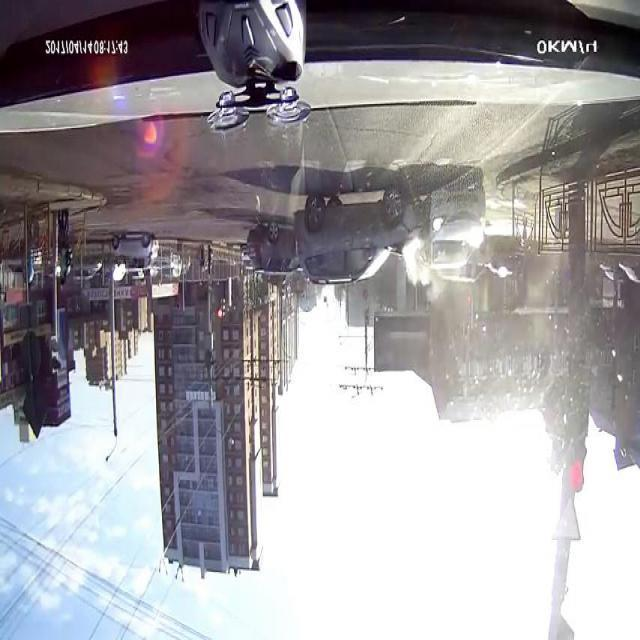vehicle: (268, 144, 504, 312)
